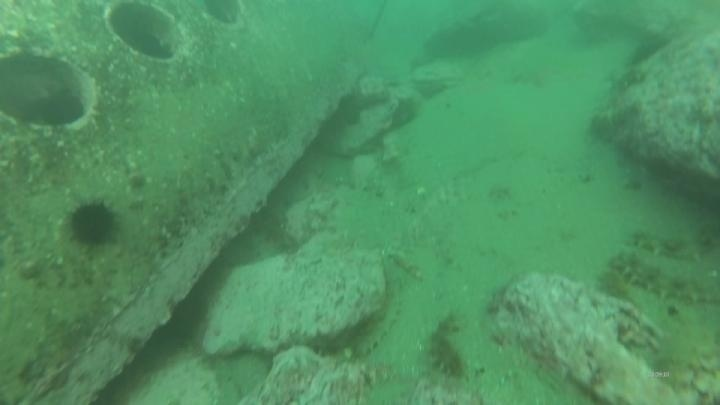echinus: (66, 199, 120, 249)
holothurian: (608, 247, 718, 309), (346, 278, 405, 363), (424, 310, 469, 382), (625, 226, 706, 264)
